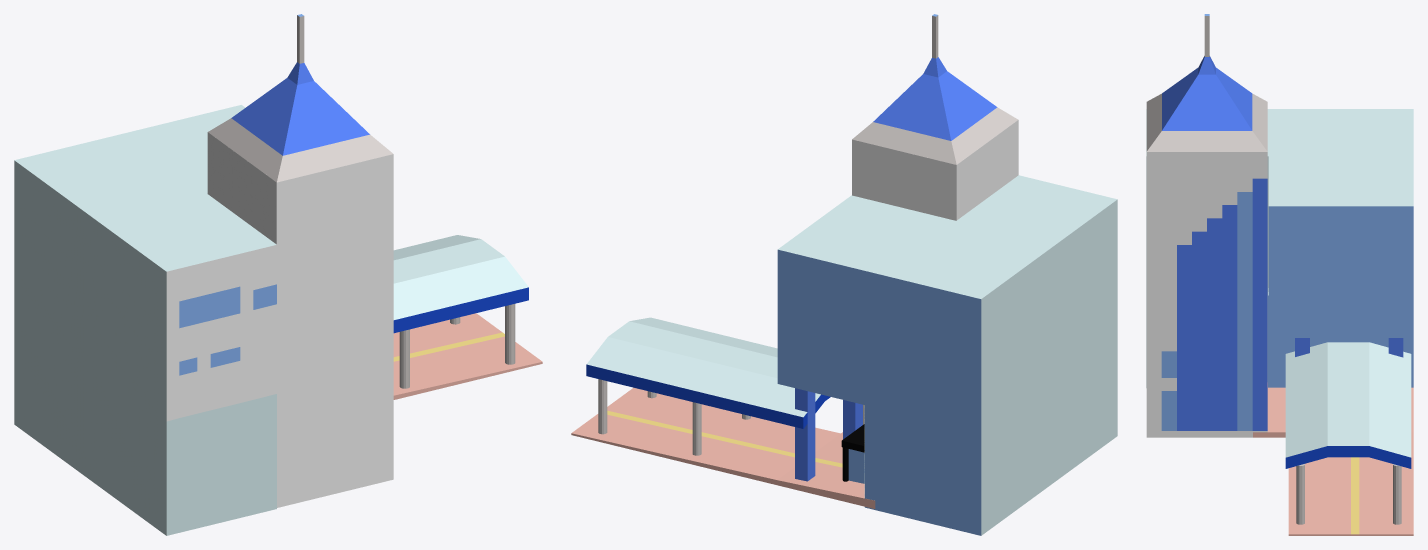
File: honkan_genkan.glb
The picture shows the model from 3 angles, left to right: view 1: azimuth 30°, elevation 25°; view 2: azimuth 150°, elevation 25°; view 3: azimuth 270°, elevation 25°; orthographic projection. The views are drawn at different scales.
Parts seen in each view (by area): view 1: 本校者・紺の部分, 本校者・三角形校舎, 本校者・三角形屋根, 本校者・昇降口屋根, 本校者・昇降口スロープ, 本校者・昇降口支柱_1; view 2: 本校者・紺の部分, 本校者・昇降口スロープ, 本校者・昇降口屋根, 本校者・三角形校舎, 本校者・三角形屋根, 本校者・昇降口支柱_2, 本校者・昇降口支柱_1, 昇降口・黒いやつ; view 3: 本校者・紺の部分, 本校者・三角形校舎, 本校者・昇降口屋根, 本校者・昇降口スロープ, 本校者・三角形屋根, 本校者・昇降口支柱_1, 本校者・昇降口支柱_2.
Boxes of the visible parts, box(x1,y1,x2,y2) form: 本校者・紺の部分: box(14, 105, 276, 535); 本校者・三角形校舎: box(207, 132, 393, 507); 本校者・三角形屋根: box(208, 14, 392, 182); 本校者・昇降口屋根: box(393, 235, 528, 333); 本校者・昇降口スロープ: box(393, 313, 542, 399); 本校者・昇降口支柱_1: box(399, 304, 515, 388); 本校者・紺の部分: box(777, 175, 1117, 535); 本校者・昇降口スロープ: box(571, 387, 875, 508); 本校者・昇降口屋根: box(586, 317, 830, 428); 本校者・三角形校舎: box(852, 120, 1018, 424); 本校者・三角形屋根: box(852, 14, 1017, 164); 本校者・昇降口支柱_2: box(795, 388, 862, 481); 本校者・昇降口支柱_1: box(598, 379, 750, 455); 昇降口・黒いやつ: box(841, 424, 864, 481); 本校者・紺の部分: box(1146, 109, 1413, 387); 本校者・三角形校舎: box(1146, 152, 1267, 437); 本校者・昇降口屋根: box(1285, 342, 1411, 468); 本校者・昇降口スロープ: box(1253, 382, 1413, 535); 本校者・三角形屋根: box(1146, 14, 1267, 151); 本校者・昇降口支柱_1: box(1296, 464, 1401, 524); 本校者・昇降口支柱_2: box(1295, 338, 1403, 357).
Size of the model in its own units: 8.65 by 8.2 by 4.99.
Materials: 2 (1 with a texture image).
